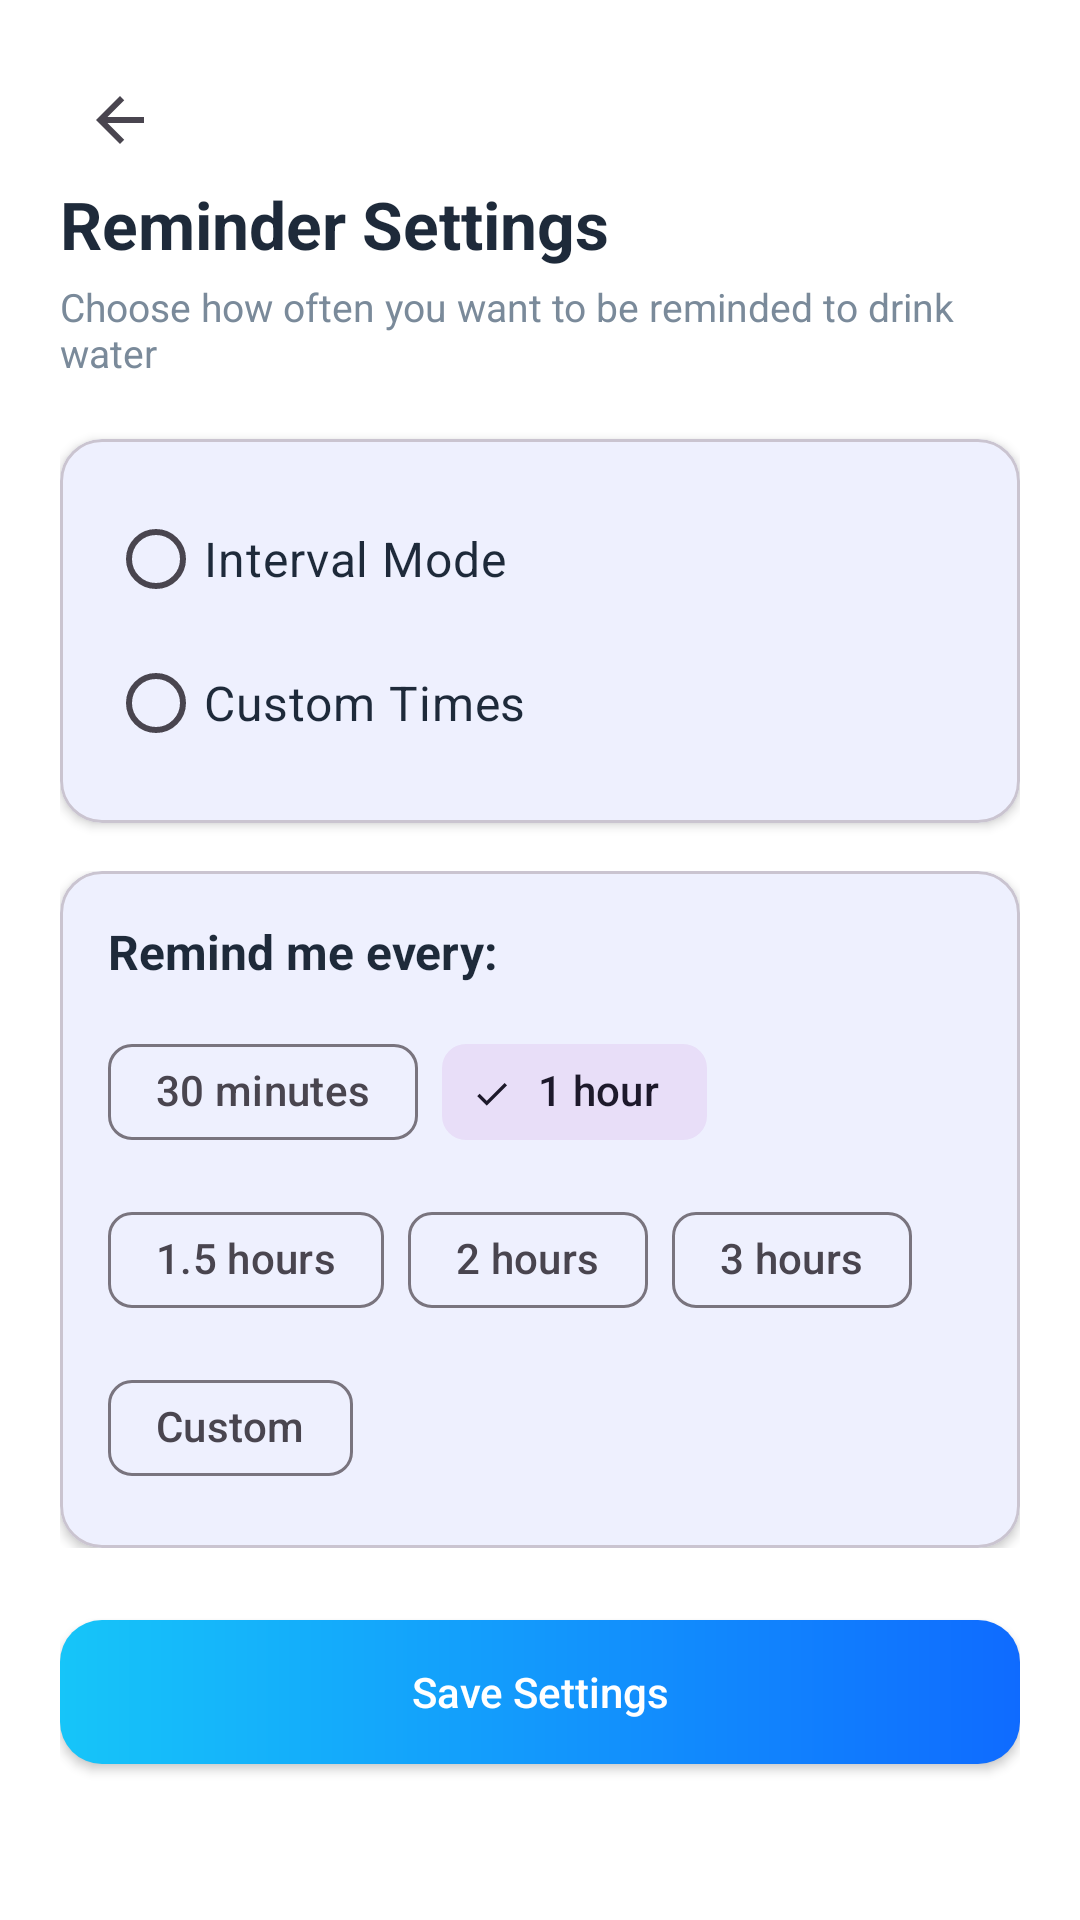

Icon bounding boxes for this 1080*1920 phone screenshot, format [x1,y1,x2,y2]:
Go back: [96,96,144,144]
